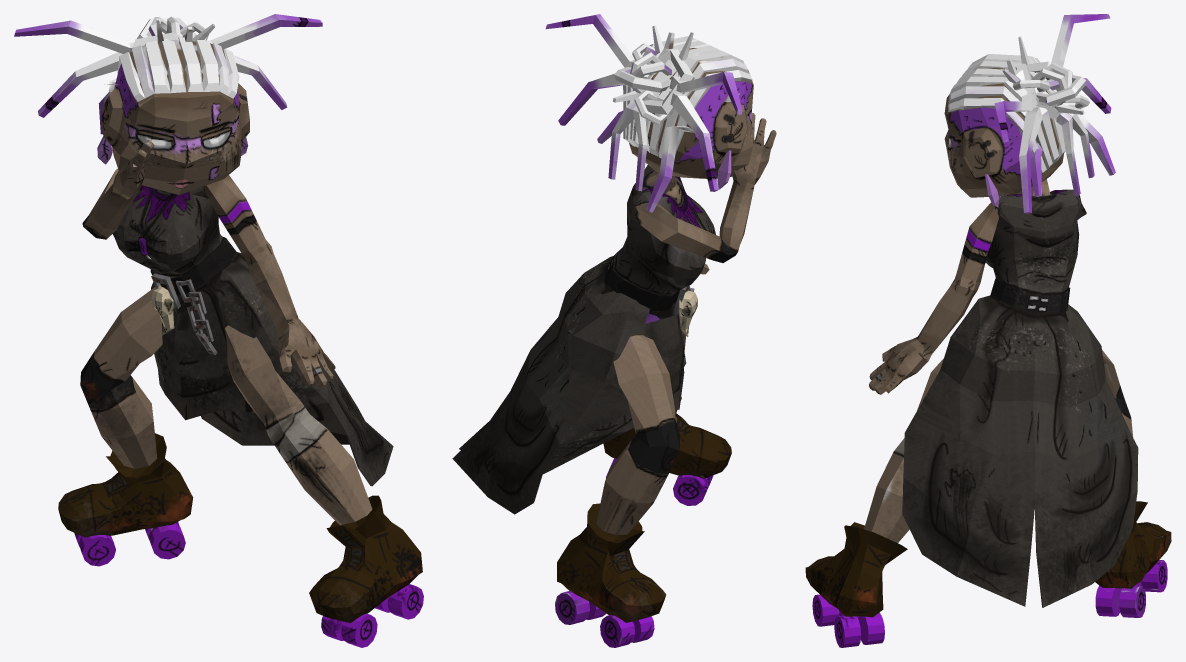
Rendered from bruja_000047.obj.
3 views of the same model, side by side, from view 1: azimuth 30°, elevation 25°; view 2: azimuth 150°, elevation 25°; view 3: azimuth 270°, elevation 25° (orthographic). The views are drawn at different scales.
Visible parts, largest first — view 1: Bruja_Plane.001; view 2: Bruja_Plane.001; view 3: Bruja_Plane.001.
Boxes of the visible parts, box(x1,y1,x2,y2) form: Bruja_Plane.001: box(14, 14, 423, 647); Bruja_Plane.001: box(452, 14, 776, 647); Bruja_Plane.001: box(805, 14, 1171, 647).
Bounding box in the file's own units: 9.26 × 15.44 × 9.25.
